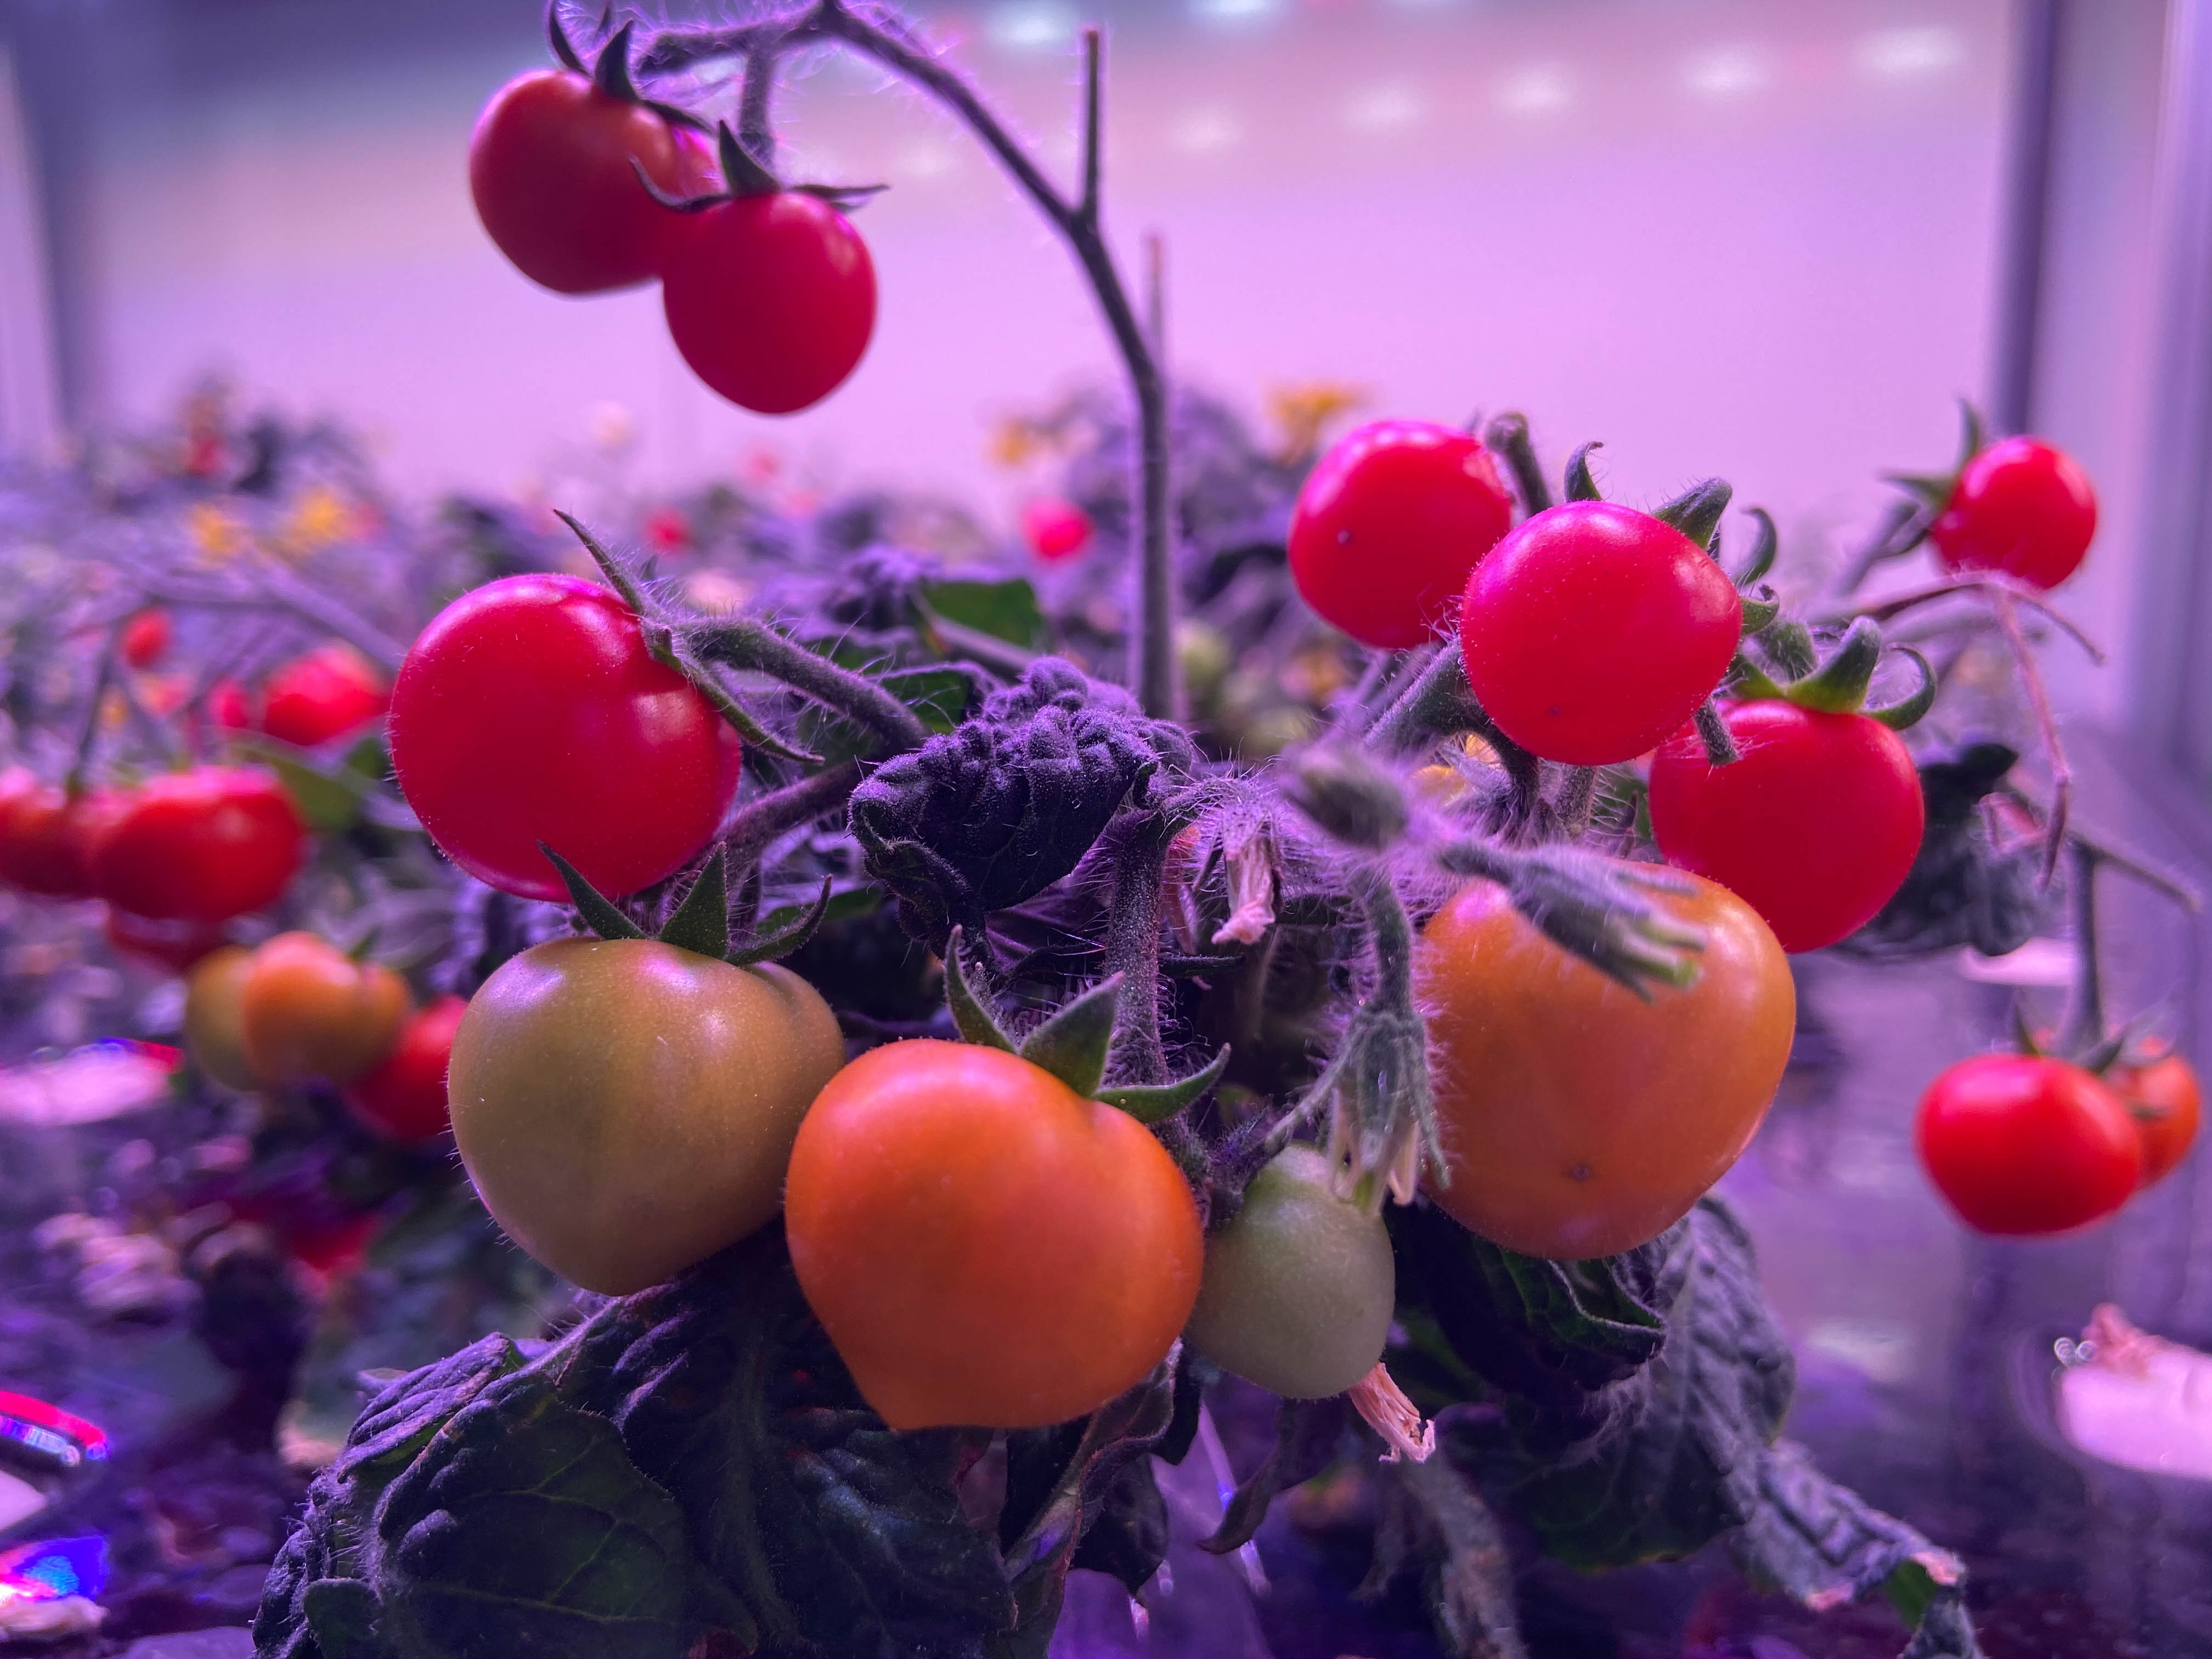green: (1174, 1127, 1406, 1408)
red: (1379, 842, 1799, 1262), (780, 1039, 1200, 1436), (441, 931, 846, 1297), (388, 575, 742, 904), (1460, 493, 1743, 767), (1644, 680, 1928, 950), (467, 63, 707, 301), (1284, 416, 1522, 655), (657, 188, 885, 420), (1912, 1042, 2148, 1241), (78, 763, 301, 922), (219, 924, 399, 1091), (1926, 430, 2104, 598), (341, 995, 470, 1147), (2095, 1042, 2200, 1190), (260, 638, 392, 749), (1008, 490, 1099, 575), (103, 580, 176, 673), (202, 667, 260, 737), (636, 498, 697, 563)
